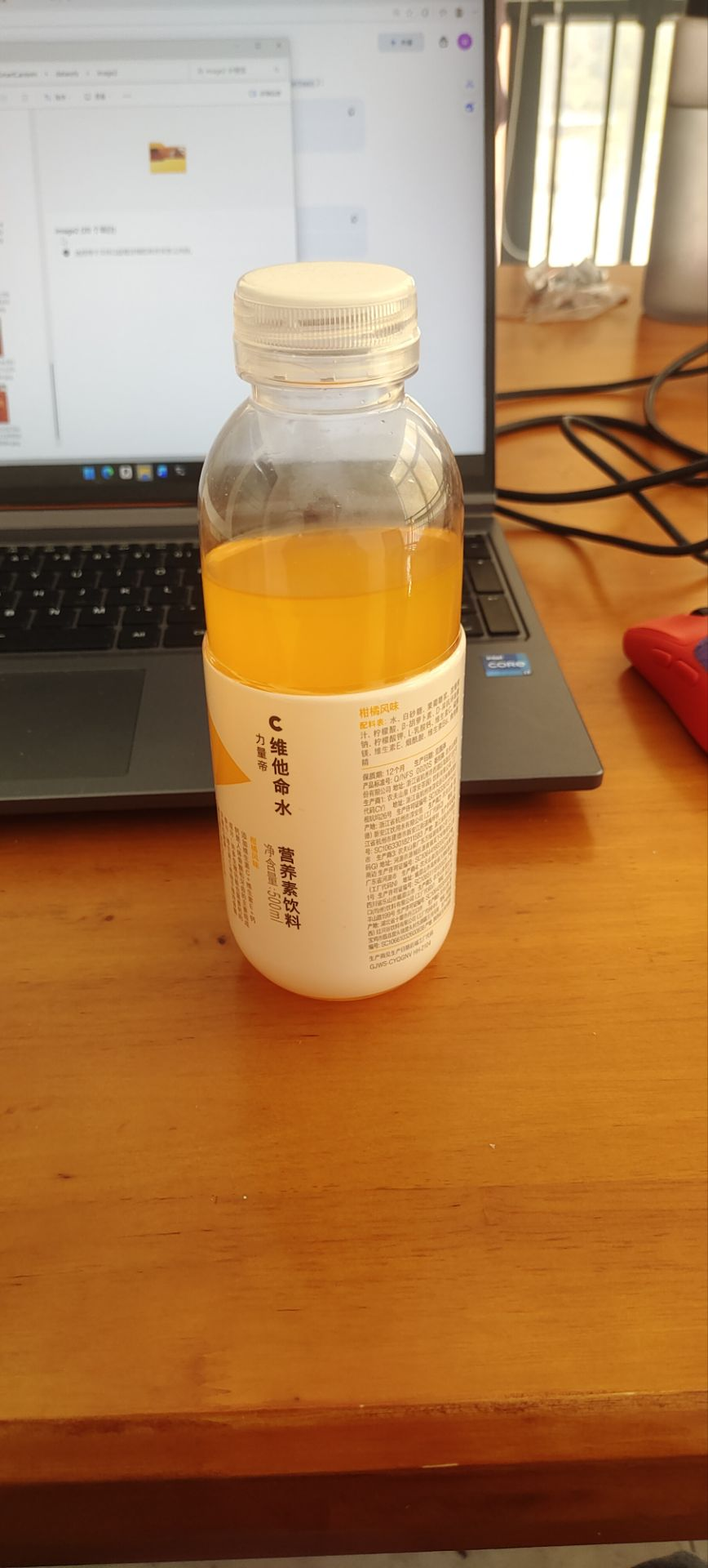redbull: (183, 265, 478, 1010)
